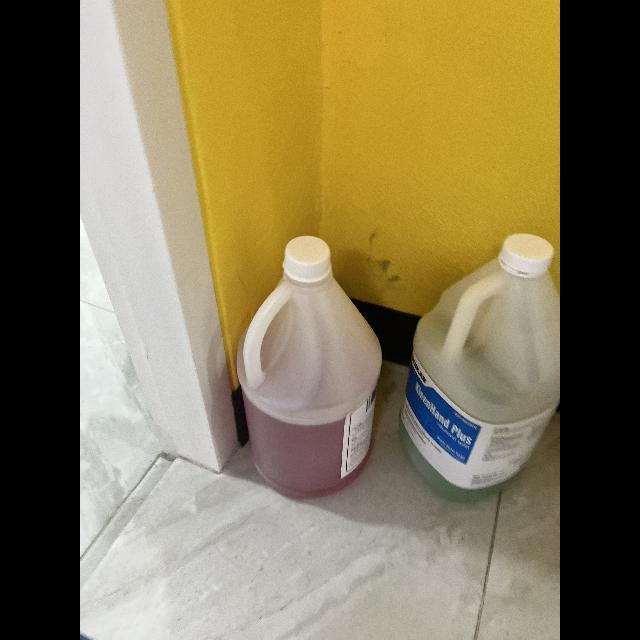chemical_plastic_gallon: (388, 224, 560, 511), (226, 226, 384, 506)
